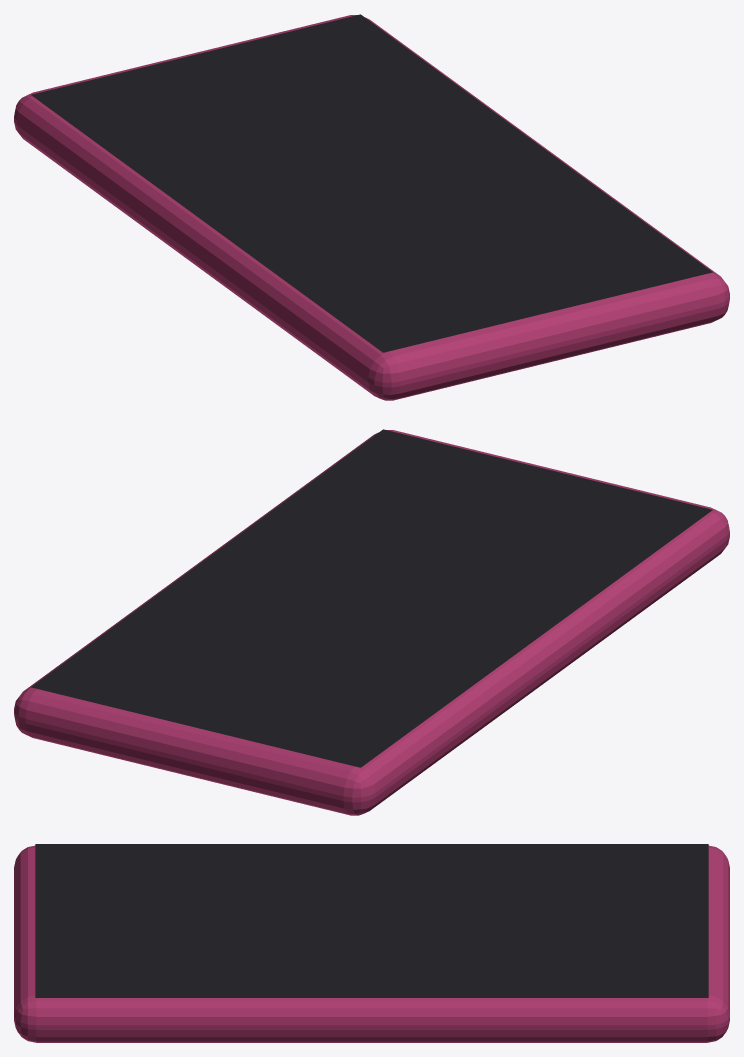
Rendered from Phone_864.glb.
3 renders of one model, top to bottom at view 1: azimuth 30°, elevation 25°; view 2: azimuth 150°, elevation 25°; view 3: azimuth 270°, elevation 25°, orthographic. The views are drawn at different scales.
Parts seen in each view (by area): view 1: Phone_Screen, Phone_Body; view 2: Phone_Screen, Phone_Body; view 3: Phone_Screen, Phone_Body.
Boxes of the visible parts, bbox=[...] form: Phone_Screen: bbox=[31, 14, 712, 352]; Phone_Body: bbox=[14, 15, 729, 400]; Phone_Screen: bbox=[31, 429, 712, 767]; Phone_Body: bbox=[14, 430, 729, 815]; Phone_Screen: bbox=[35, 844, 708, 997]; Phone_Body: bbox=[14, 845, 729, 1042].
Size of the model in its own units: 0.0776 by 0.0099 by 0.1405.
